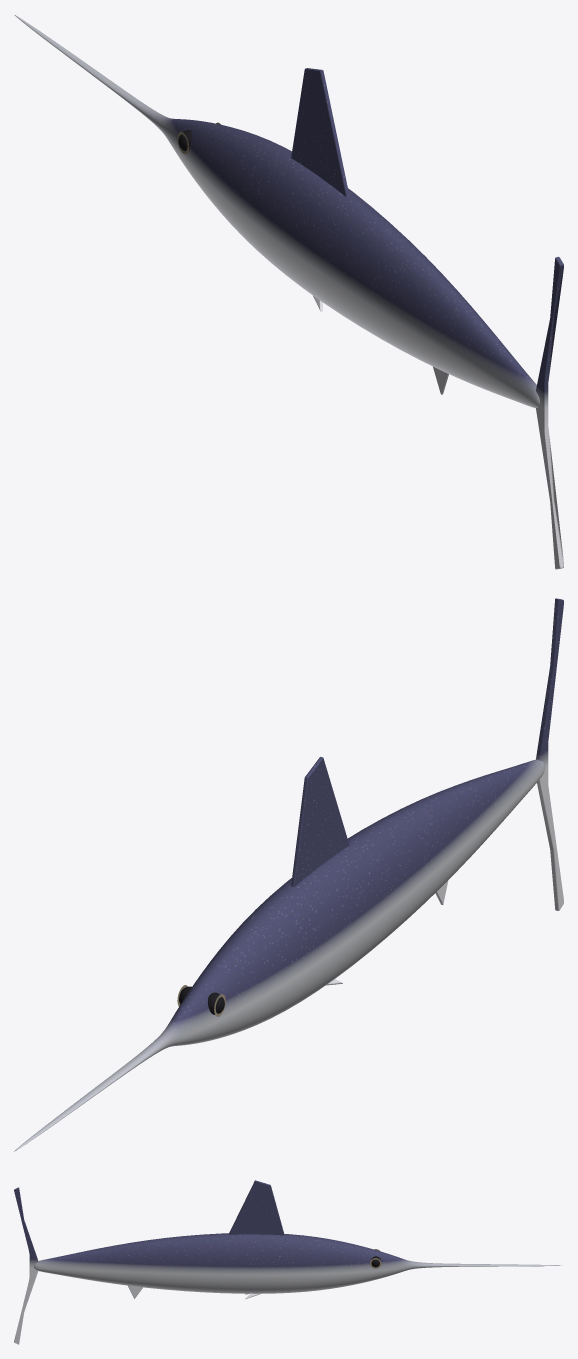
The model's file is Weapon_Swordfish.glb.
3 views of the same model, one above another, from view 1: azimuth 30°, elevation 25°; view 2: azimuth 150°, elevation 25°; view 3: azimuth 270°, elevation 25° (orthographic). The views are drawn at different scales.
Visible parts, largest first — view 1: Weapon_Swordfish_Game; view 2: Weapon_Swordfish_Game; view 3: Weapon_Swordfish_Game.
Boxes of the visible parts, left/top/right/bottom form: Weapon_Swordfish_Game: left=15, top=15, right=563, bottom=569; Weapon_Swordfish_Game: left=14, top=598, right=563, bottom=1151; Weapon_Swordfish_Game: left=14, top=1180, right=562, bottom=1344.
Bounding box in the file's own units: 0.143 × 0.6888 × 2.1.
Materials: 1 (1 with a texture image).
